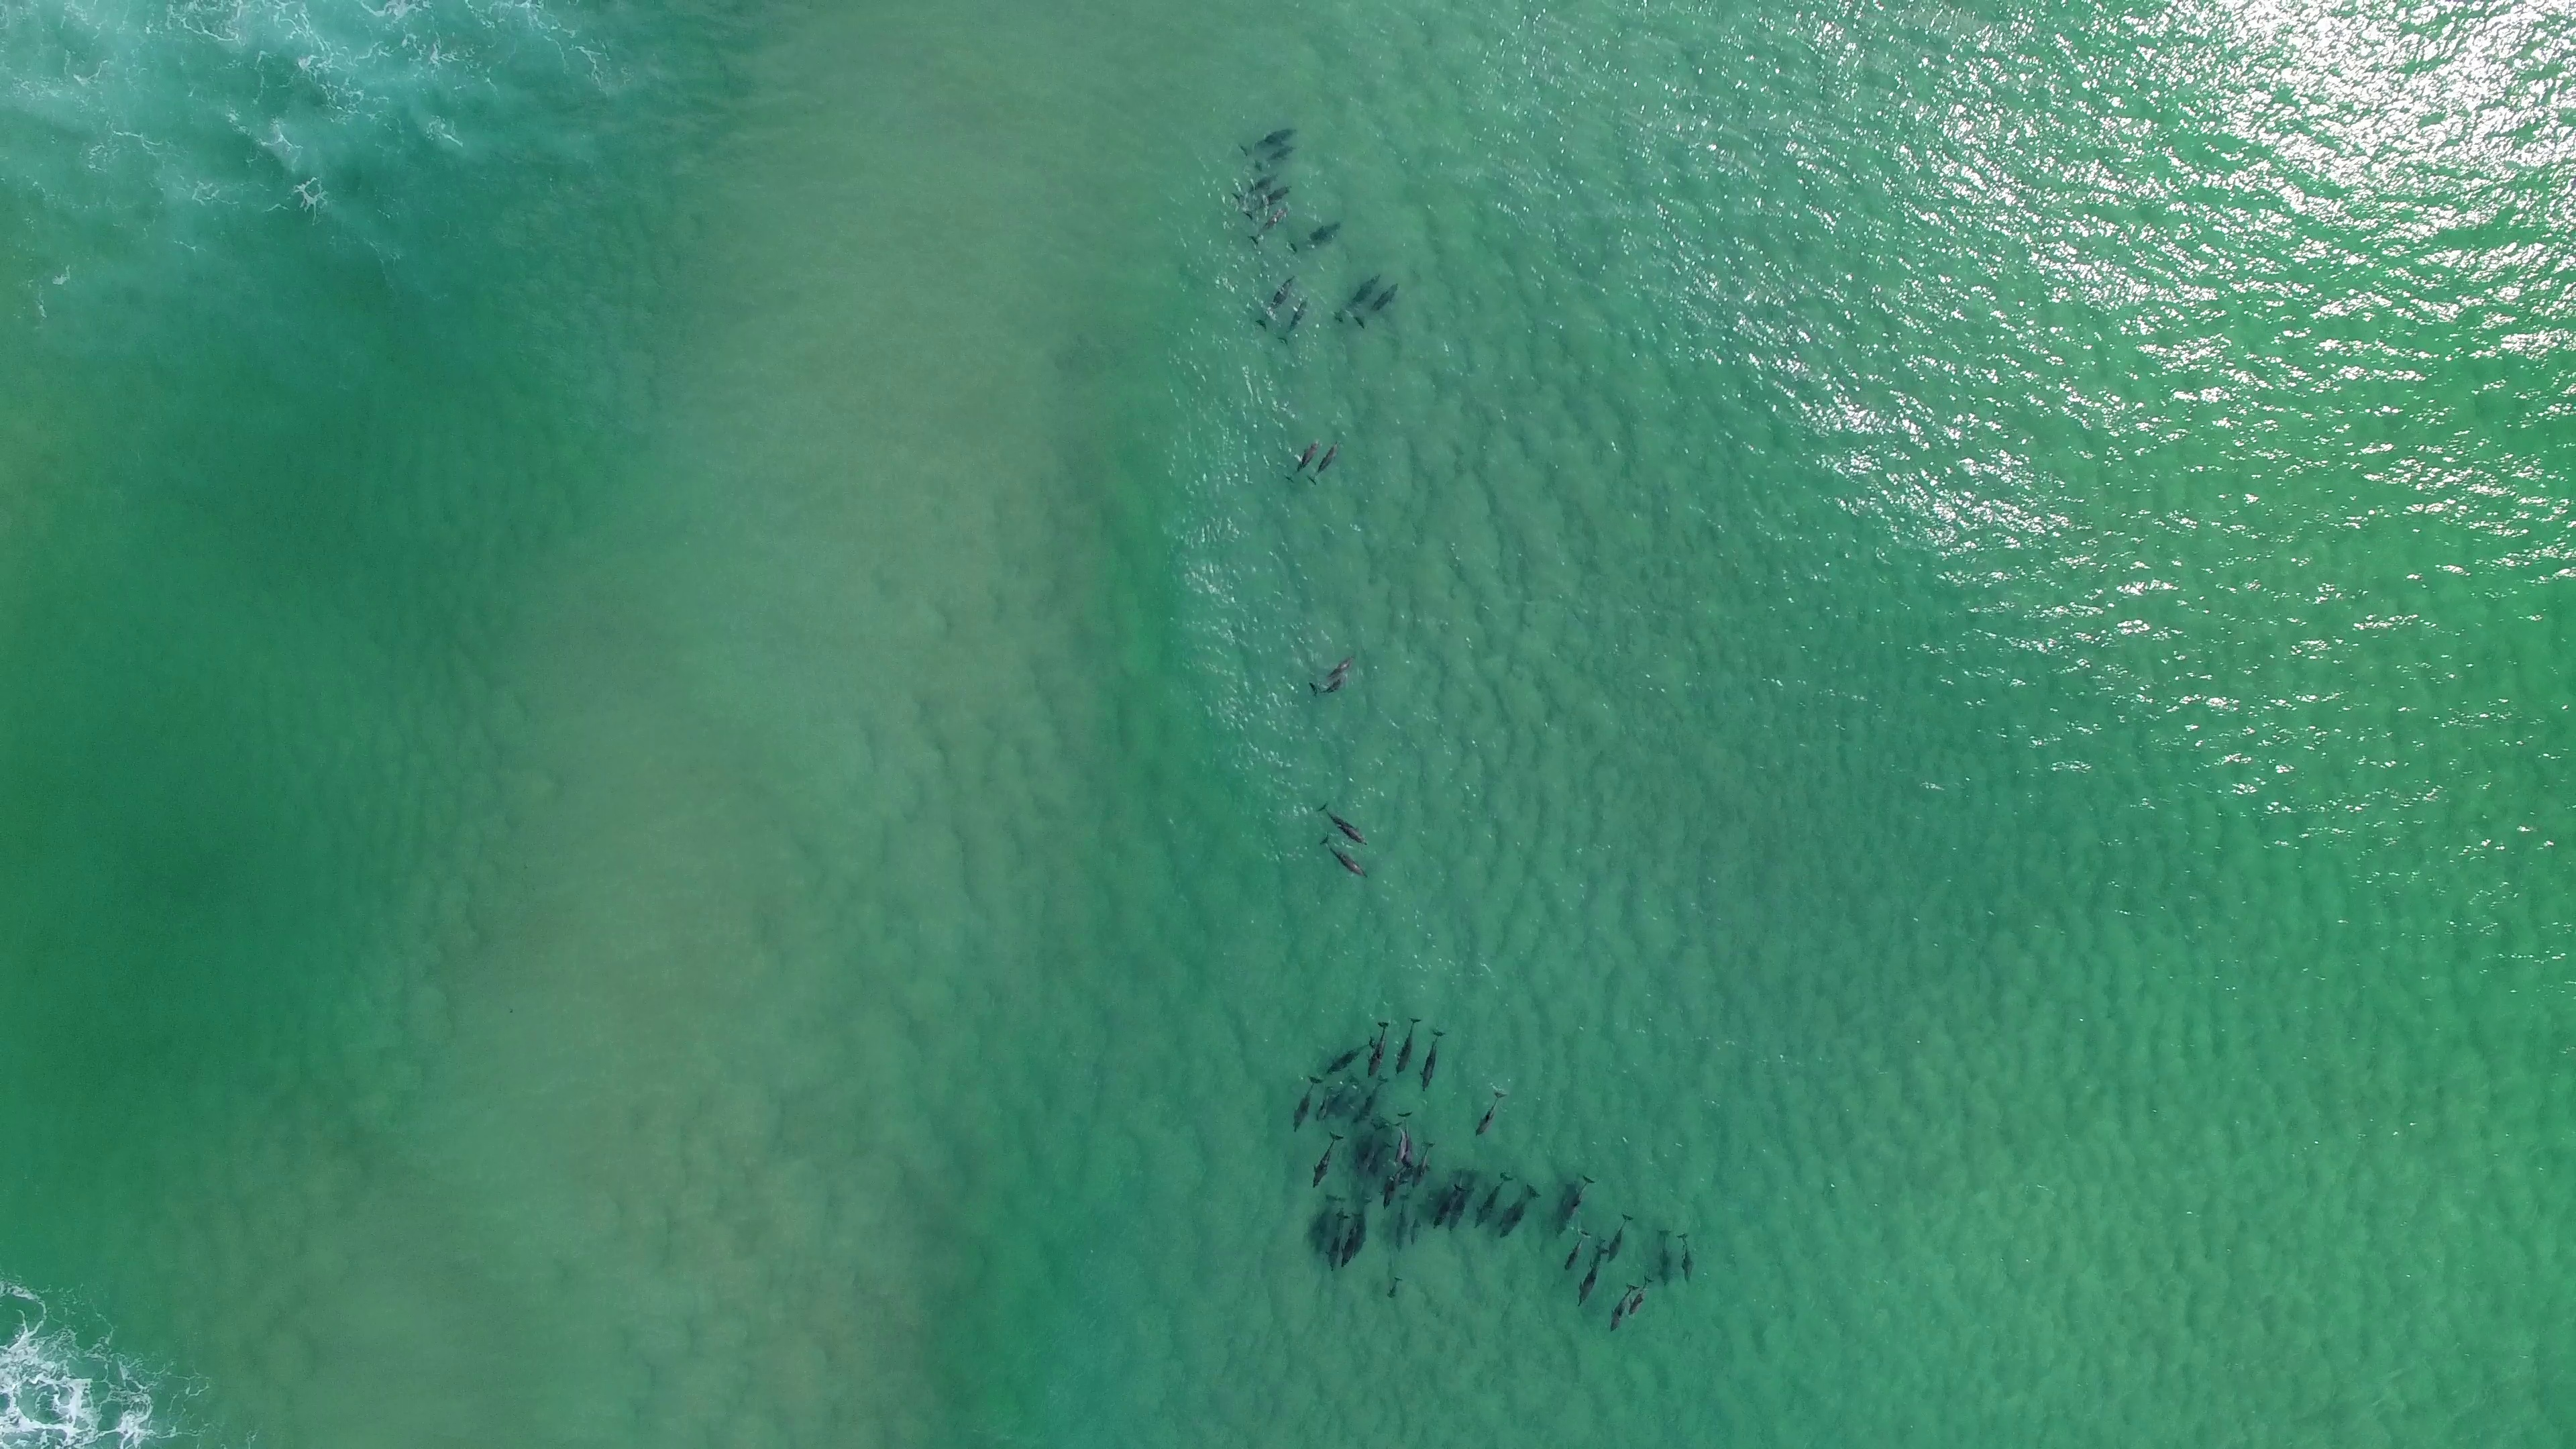dolphin: (1332, 272, 1384, 324), (1493, 1184, 1541, 1238), (1256, 272, 1299, 333), (1573, 1244, 1614, 1306), (1468, 1173, 1514, 1226), (1318, 801, 1369, 847), (1318, 837, 1369, 879), (1325, 1035, 1376, 1077), (1355, 283, 1399, 331), (1309, 653, 1357, 697), (1306, 1132, 1343, 1189), (1284, 219, 1345, 253), (1240, 126, 1302, 157), (1288, 1077, 1322, 1136), (1306, 439, 1345, 488), (1555, 1177, 1594, 1226), (1240, 184, 1293, 219), (1249, 203, 1292, 248), (1362, 1019, 1392, 1079), (1353, 1077, 1394, 1122), (1277, 294, 1311, 347), (1322, 1210, 1350, 1270), (1419, 1028, 1445, 1092), (1430, 1182, 1463, 1231), (1357, 1118, 1385, 1177), (1606, 1281, 1637, 1336), (1284, 439, 1322, 483), (1394, 1014, 1421, 1076), (1318, 1077, 1355, 1122), (1231, 170, 1283, 202), (1311, 1194, 1338, 1254), (1472, 1092, 1507, 1136), (1557, 1230, 1591, 1274), (1350, 1194, 1371, 1263), (1254, 142, 1302, 172), (1606, 1212, 1635, 1261), (1407, 1139, 1435, 1187), (1380, 1164, 1410, 1207), (1629, 1274, 1652, 1318), (1391, 1194, 1407, 1251), (1675, 1233, 1693, 1281), (1398, 1111, 1414, 1164), (1658, 1226, 1670, 1288), (1408, 1201, 1424, 1247), (1387, 1274, 1401, 1300)
